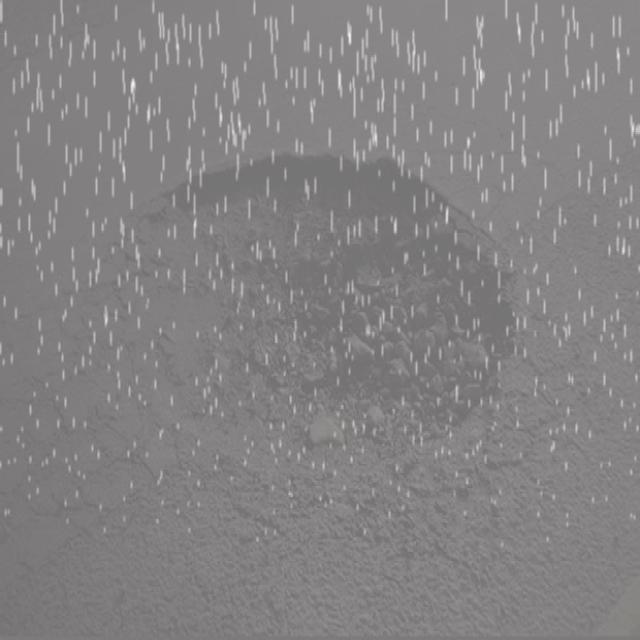Pothole: (88, 131, 529, 533)
